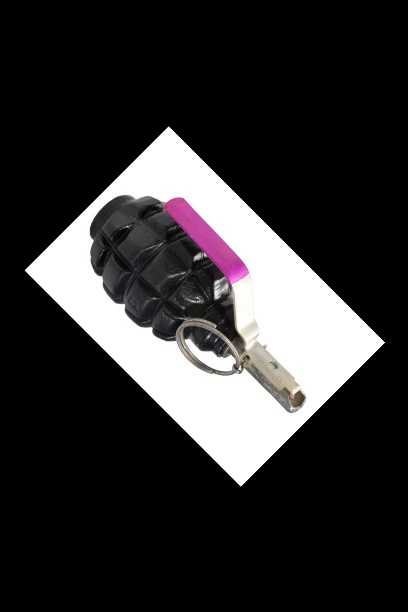e1: (90, 192, 306, 414)
